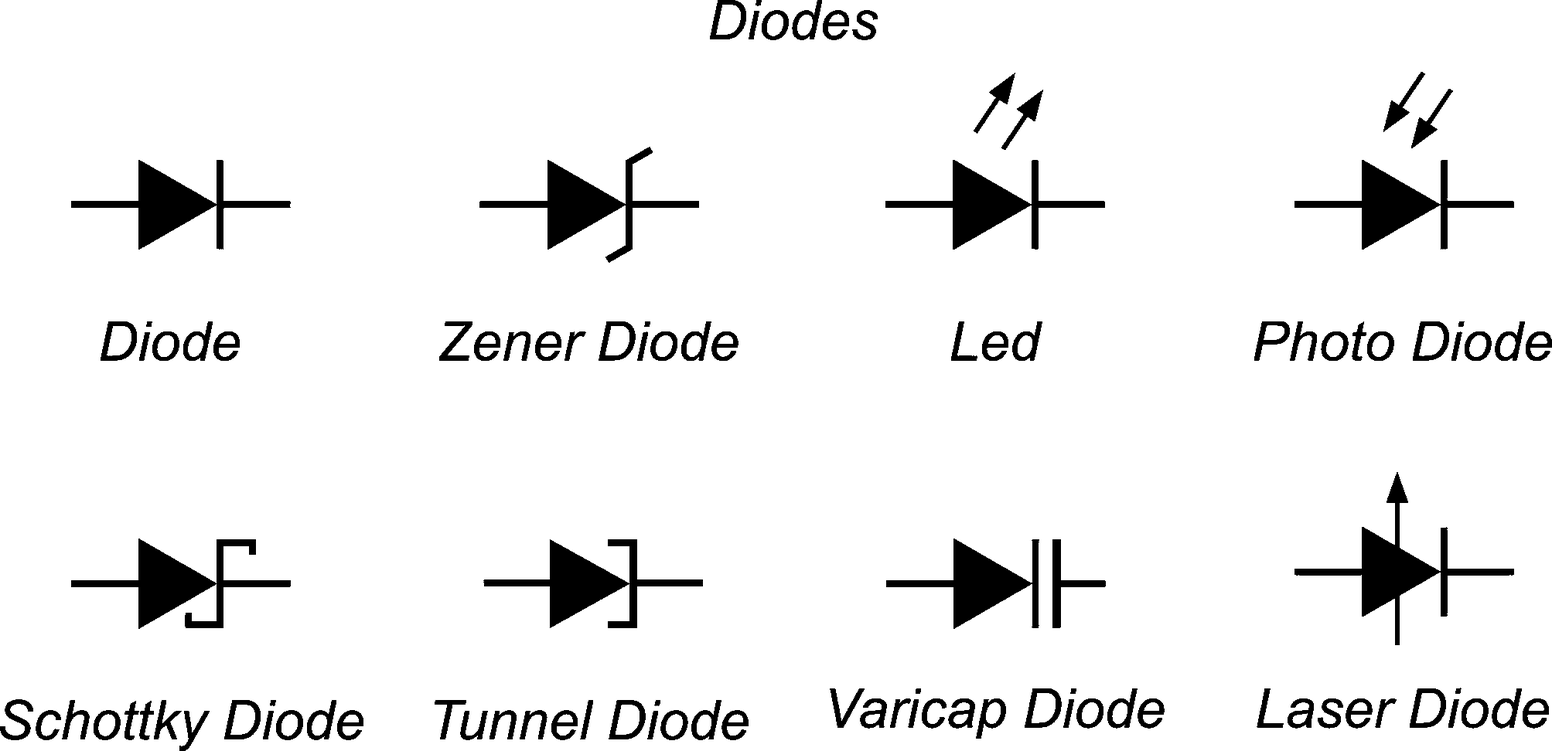D: (526, 128, 665, 284), (1320, 501, 1479, 636), (932, 122, 1061, 286), (115, 522, 277, 648), (936, 513, 1083, 648), (1339, 136, 1475, 274), (111, 141, 254, 265), (526, 513, 657, 644)
